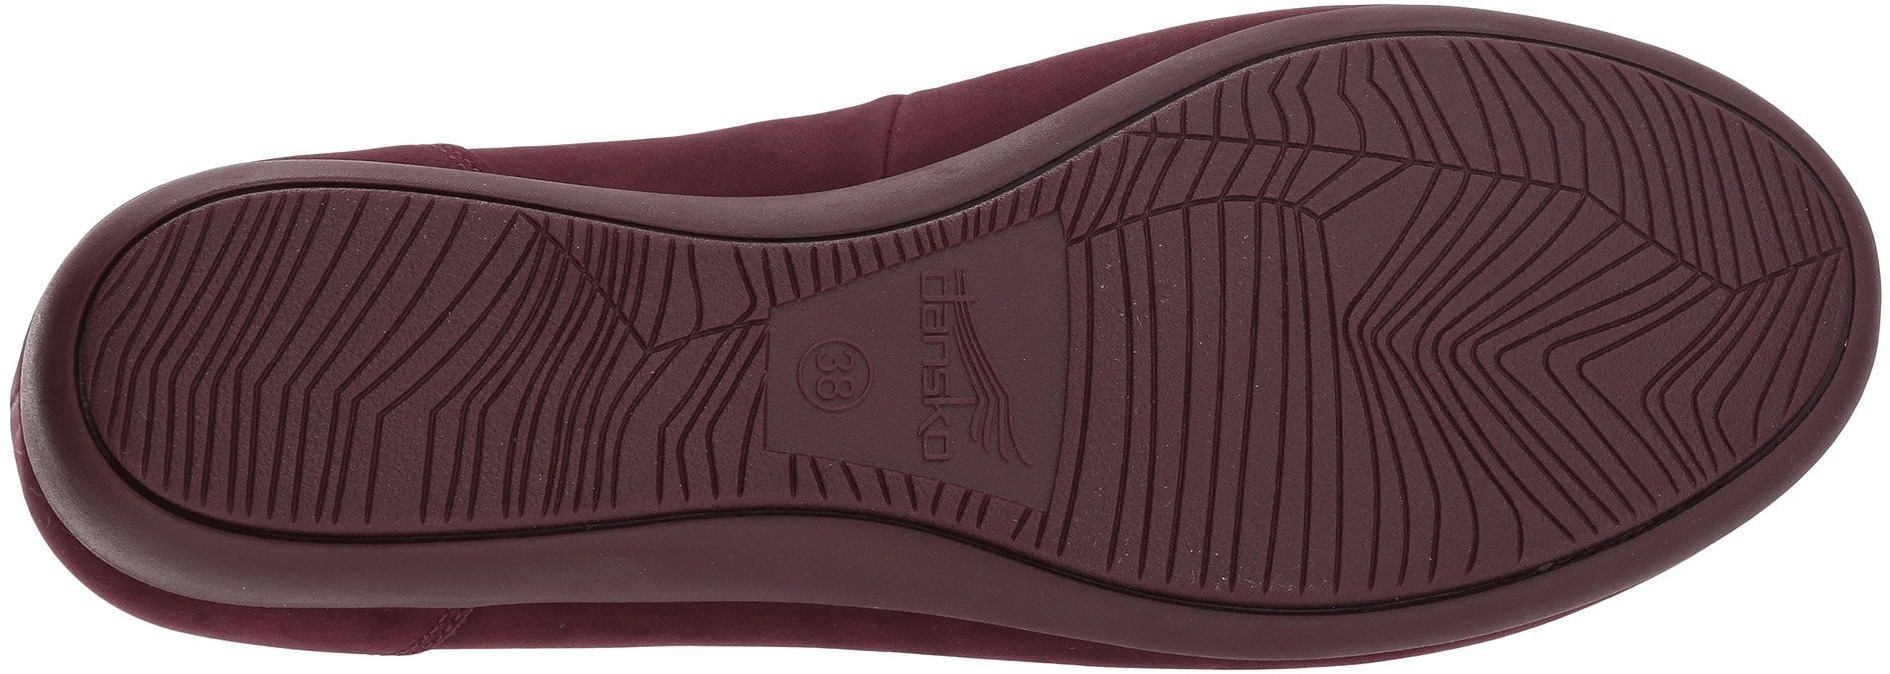circle: (788, 329, 884, 421)
line: (1104, 135, 1546, 567), (215, 195, 564, 512), (1465, 134, 1755, 426), (546, 275, 774, 477)
text: (908, 395, 972, 467), (912, 272, 980, 338), (908, 332, 973, 395), (804, 345, 864, 404)
